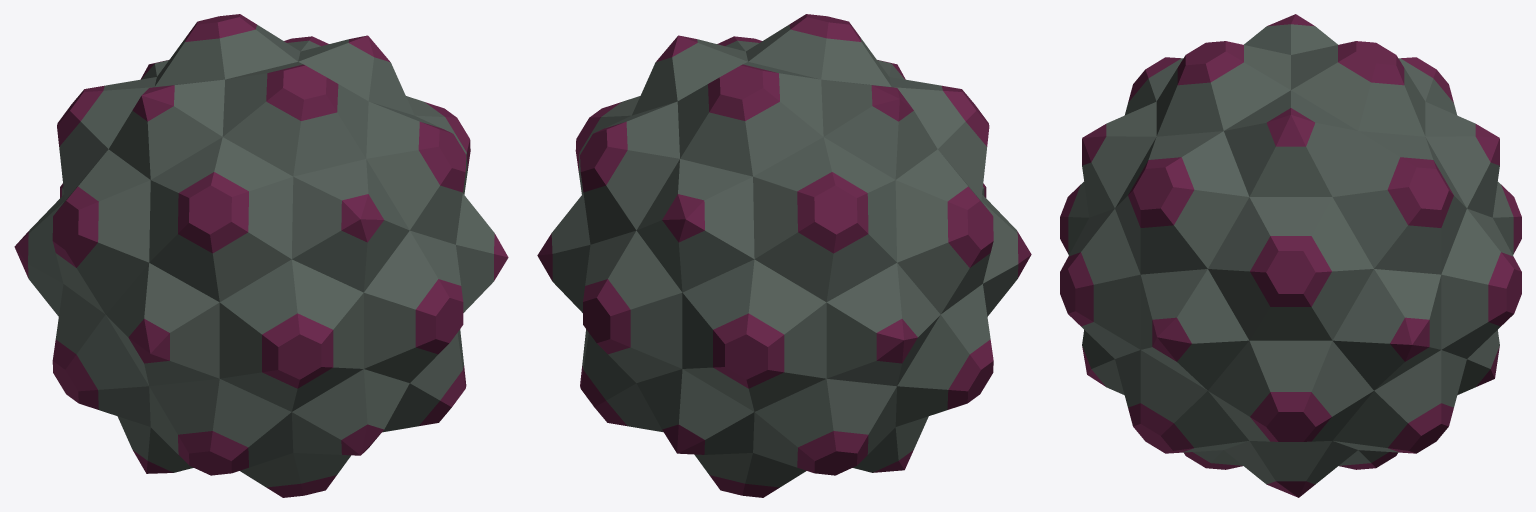
The model's file is cactus_1.fbx.
The picture shows the model from 3 angles, left to right: view 1: azimuth 30°, elevation 25°; view 2: azimuth 150°, elevation 25°; view 3: azimuth 270°, elevation 25°; orthographic projection.
Parts seen in each view (by area): view 1: cactus_1; view 2: cactus_1; view 3: cactus_1.
Part boxes in pixels (x1,y1,x2,y2): cactus_1: [14, 14, 508, 497]; cactus_1: [537, 14, 1031, 497]; cactus_1: [1060, 14, 1521, 497].
Bounding box in the file's own units: 66.48 × 66.48 × 66.48.
